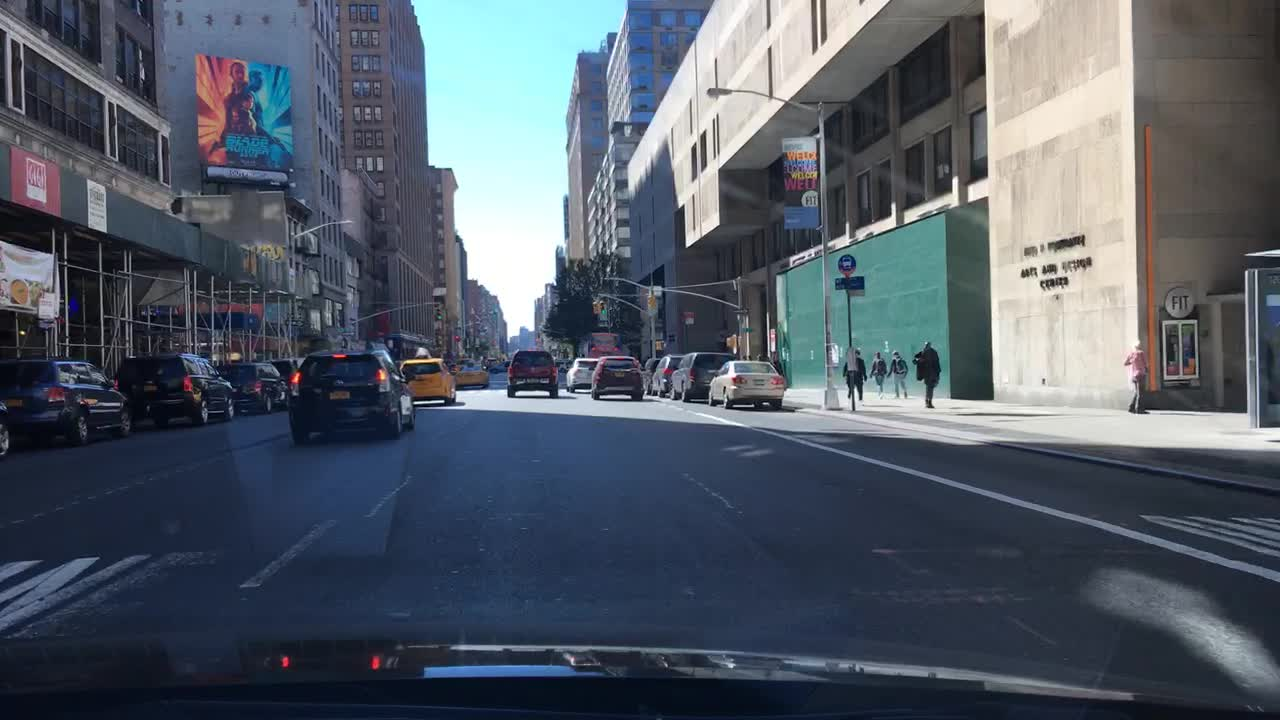bus: (585, 331, 625, 360), (552, 358, 572, 373)
car: (286, 348, 415, 442), (0, 358, 132, 445), (113, 351, 236, 429), (215, 360, 286, 414), (708, 361, 786, 408), (397, 344, 456, 403), (667, 350, 736, 400), (505, 348, 559, 398), (592, 356, 645, 404), (264, 356, 312, 405), (647, 353, 681, 395), (450, 357, 493, 389), (568, 356, 597, 392), (640, 354, 660, 397), (0, 395, 13, 461), (485, 357, 512, 372), (483, 354, 497, 369)
person: (913, 339, 941, 410), (1125, 338, 1150, 414), (842, 345, 869, 398), (885, 347, 911, 400), (869, 348, 889, 392), (772, 348, 784, 376), (757, 353, 770, 363), (741, 351, 754, 361)
traffic light: (646, 288, 657, 306), (599, 298, 606, 319), (653, 339, 666, 350), (453, 325, 461, 342), (590, 297, 599, 312), (728, 334, 738, 347), (433, 304, 441, 319), (534, 328, 543, 341)
traffic sign: (836, 254, 857, 275), (850, 276, 866, 297), (833, 273, 848, 288), (681, 310, 695, 323), (731, 306, 751, 314), (284, 317, 303, 325), (334, 325, 355, 332), (737, 325, 753, 334)
